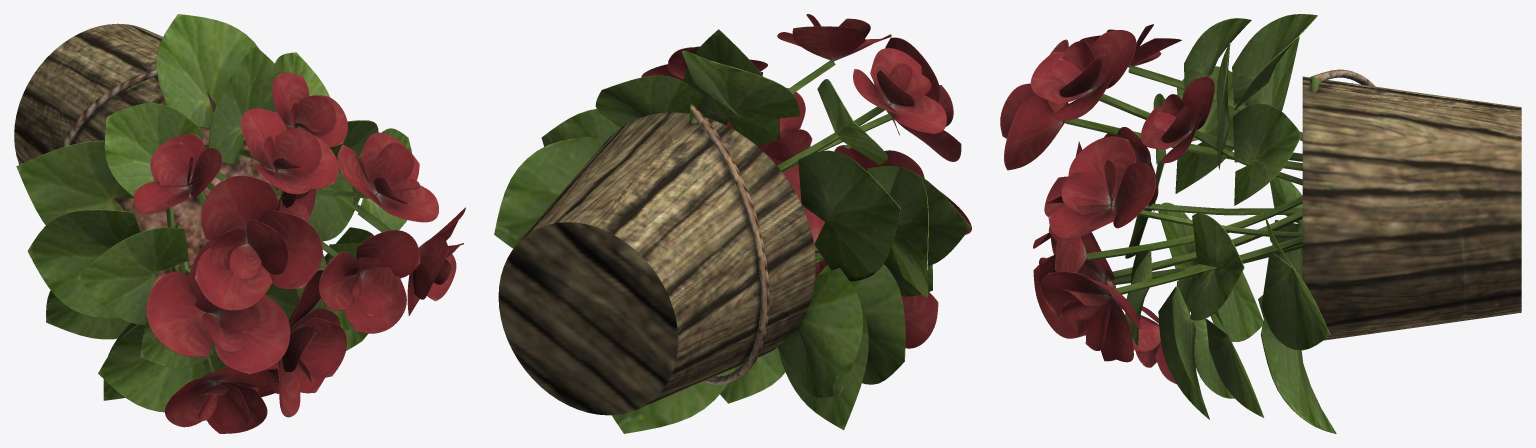
The model's file is flower.glb.
The picture shows the model from 3 angles, left to right: view 1: azimuth 30°, elevation 25°; view 2: azimuth 150°, elevation 25°; view 3: azimuth 270°, elevation 25°; orthographic projection. The views are drawn at different scales.
Parts seen in each view (by area): view 1: 10435_Begonia_v3_L3; view 2: 10435_Begonia_v3_L3; view 3: 10435_Begonia_v3_L3.
Part boxes in pixels (<box>): 10435_Begonia_v3_L3: <box>14,14,465,433</box>; 10435_Begonia_v3_L3: <box>494,14,971,433</box>; 10435_Begonia_v3_L3: <box>1000,14,1521,433</box>.
Bounding box in the file's own units: 35.52 × 32.81 × 40.67.
Materials: 1 (1 with a texture image).
